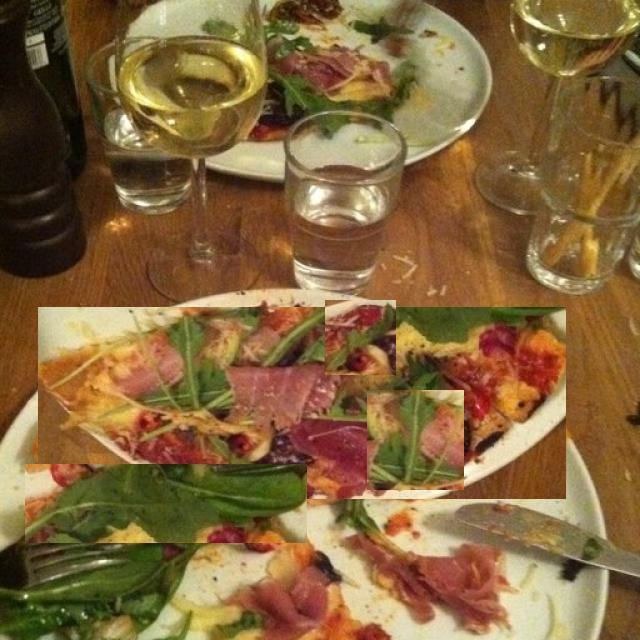basil: (25, 464, 307, 543), (3, 540, 205, 638), (158, 384, 367, 436), (367, 390, 464, 490), (326, 300, 398, 375)
pizza: (38, 307, 566, 499)
